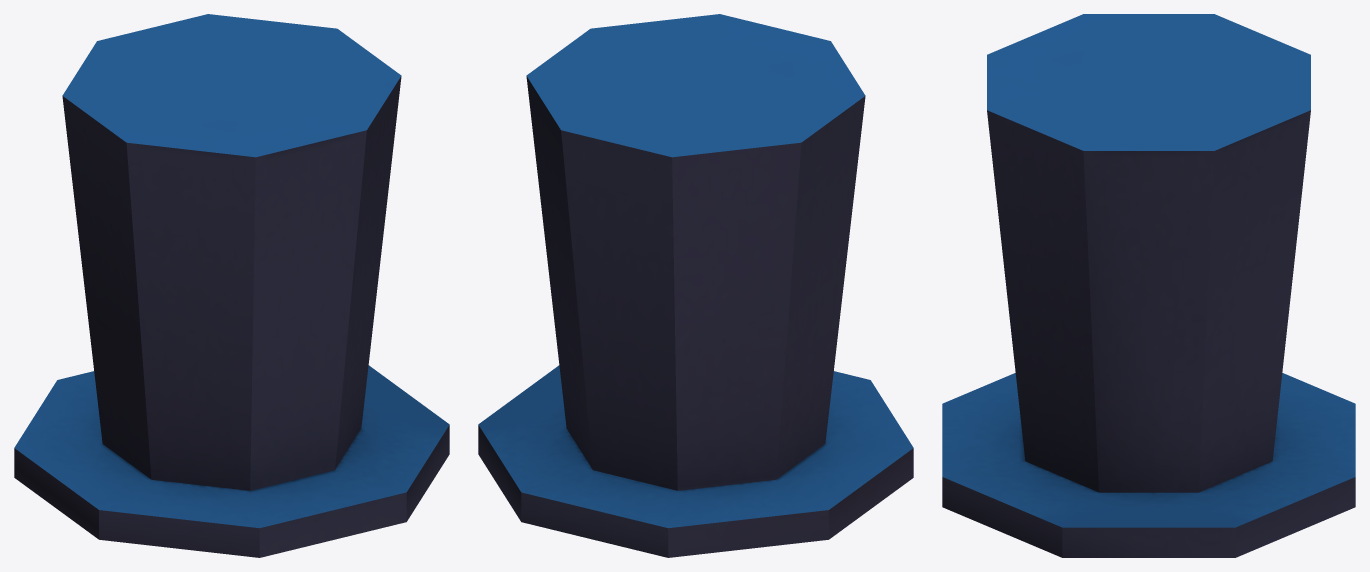
File: Hat 4.FBX
3 renders of one model, left to right at view 1: azimuth 30°, elevation 25°; view 2: azimuth 150°, elevation 25°; view 3: azimuth 270°, elevation 25°, orthographic. The views are drawn at different scales.
Visible parts, largest first — view 1: Hat4; view 2: Hat4; view 3: Hat4.
Boxes of the visible parts, bbox=[...] form: Hat4: bbox=[14, 14, 449, 557]; Hat4: bbox=[478, 14, 913, 557]; Hat4: bbox=[942, 14, 1355, 557].
Size of the model in its own units: 234 by 234 by 242.
Materials: 1 (1 with a texture image).
